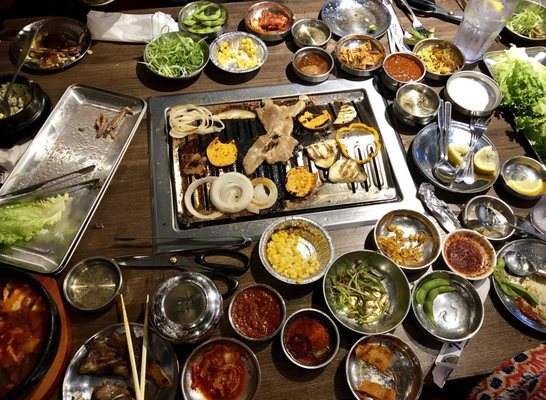salad: (419, 341, 467, 394)
sushi: (0, 268, 70, 398), (322, 250, 412, 335), (411, 270, 485, 342), (149, 273, 223, 345), (259, 217, 333, 288), (345, 334, 423, 399), (181, 337, 261, 400), (373, 209, 441, 273), (136, 31, 210, 89), (280, 307, 340, 371), (0, 76, 49, 149), (227, 284, 286, 343), (62, 257, 123, 314), (208, 30, 268, 85), (444, 70, 501, 120), (442, 229, 496, 281), (318, 0, 390, 38), (388, 82, 441, 132), (496, 156, 546, 208), (462, 196, 517, 243), (412, 38, 465, 84), (335, 34, 386, 78), (380, 52, 426, 100), (243, 1, 293, 44), (503, 0, 546, 45), (287, 46, 334, 86), (178, 1, 228, 35), (290, 18, 331, 49)
